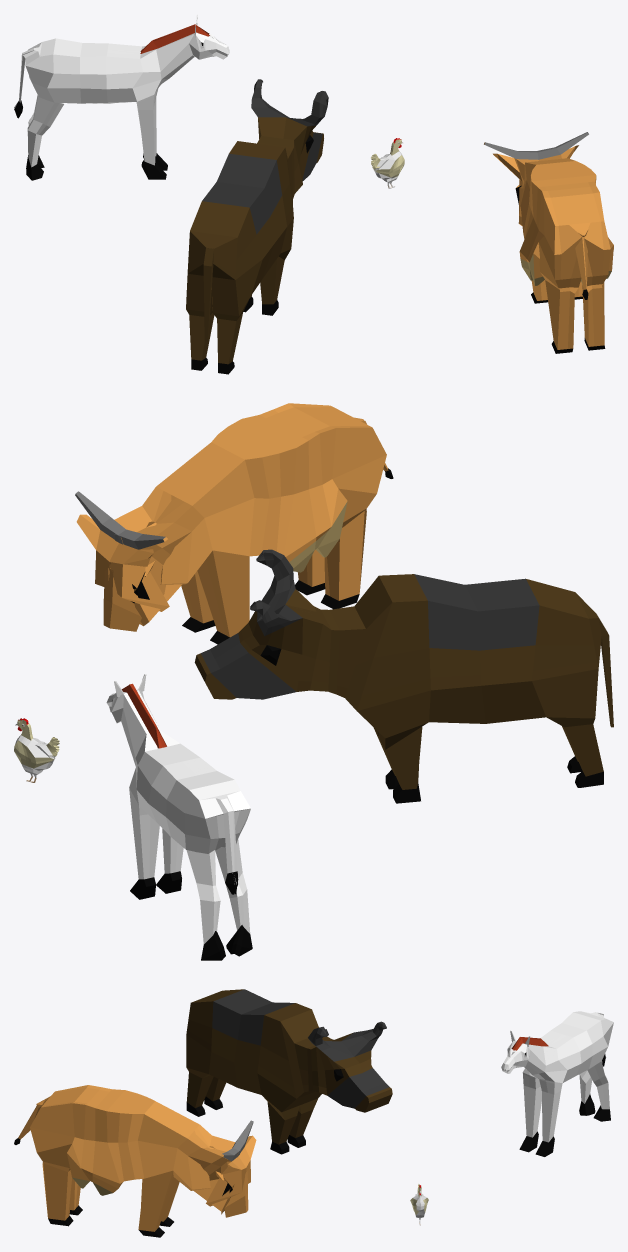
Rendered from Completo.glb.
3 renders of one model, top to bottom at view 1: azimuth 30°, elevation 25°; view 2: azimuth 150°, elevation 25°; view 3: azimuth 270°, elevation 25°, orthographic. The views are drawn at different scales.
Parts seen in each view (by area): view 1: Cube.003, Cube.004, Cube.010, Cube.018; view 2: Cube.003, Cube.004, Cube.010, Cube.018; view 3: Cube.004, Cube.003, Cube.010, Cube.018.
Boxes of the visible parts, x1,y1,x2,y2 form: Cube.003: (186, 79, 328, 374); Cube.004: (484, 132, 613, 353); Cube.010: (14, 15, 229, 180); Cube.018: (371, 138, 404, 188); Cube.003: (194, 549, 613, 803); Cube.004: (75, 403, 393, 644); Cube.010: (106, 674, 252, 960); Cube.018: (14, 718, 59, 782); Cube.004: (14, 1085, 256, 1237); Cube.003: (186, 989, 392, 1154); Cube.010: (501, 1011, 613, 1156); Cube.018: (410, 1184, 428, 1225).
Bounding box in the file's own units: 8.39 × 3.62 × 12.67.
